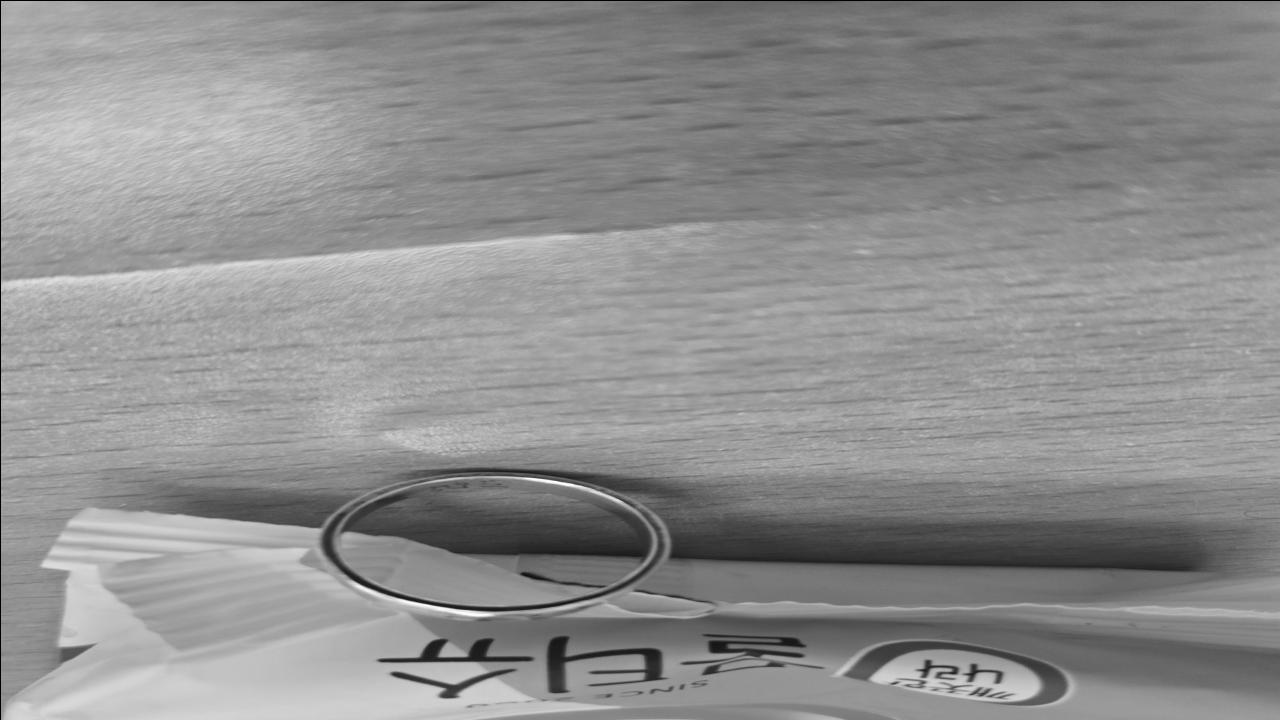ring: (314, 466, 672, 622)
